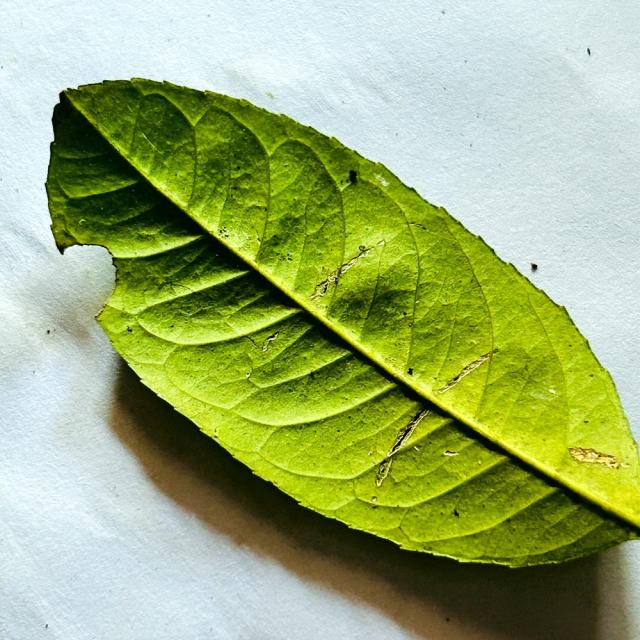Deficiency Leaf: (58, 246, 115, 317)
Lemon: (45, 79, 639, 566)
